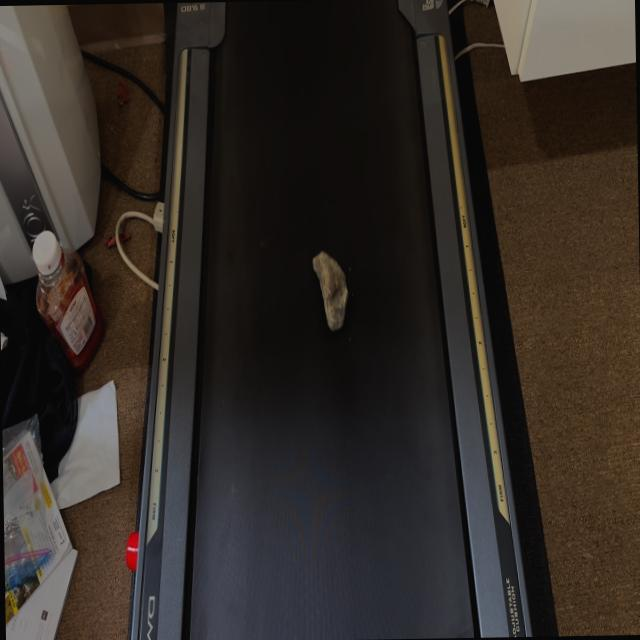Trash: (303, 231, 355, 347)
